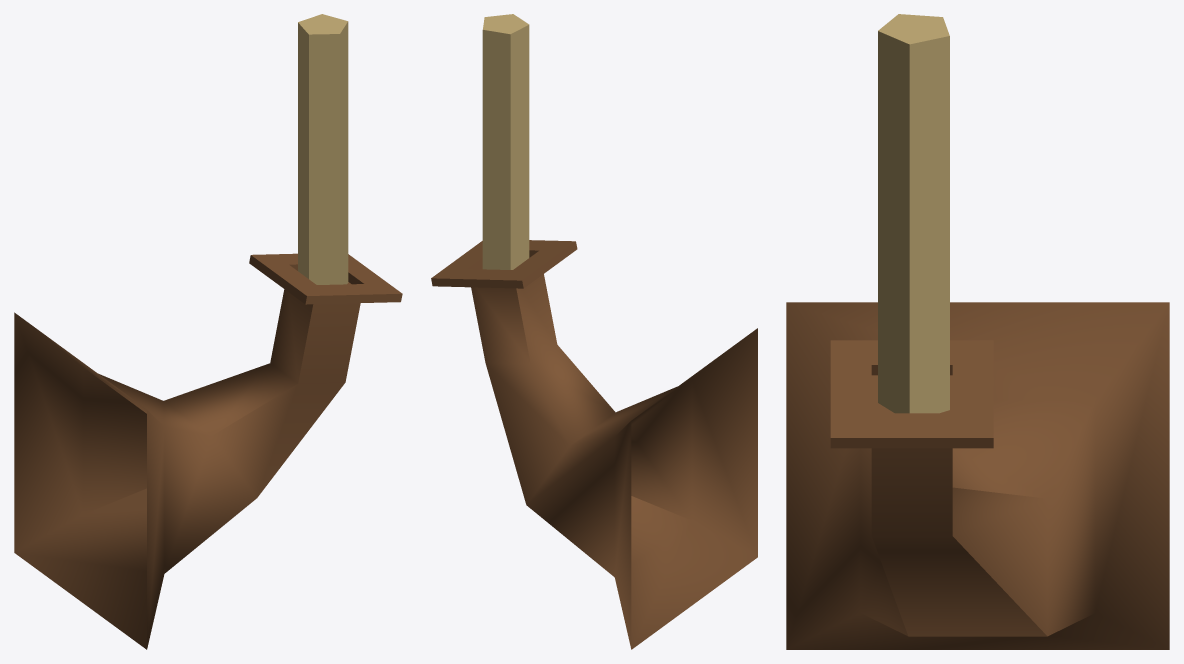
The model's file is candle_wall(1).fbx.
3 renders of one model, left to right at view 1: azimuth 30°, elevation 25°; view 2: azimuth 150°, elevation 25°; view 3: azimuth 270°, elevation 25°, orthographic. The views are drawn at different scales.
Visible parts, largest first — view 1: Plane, Cylinder_13; view 2: Plane, Cylinder_13; view 3: Plane, Cylinder_13.
Boxes of the visible parts, x1,y1,x2,y2 form: Plane: (14, 253, 402, 649); Cylinder_13: (298, 14, 348, 284); Plane: (431, 240, 757, 649); Cylinder_13: (482, 14, 529, 269); Plane: (786, 302, 1169, 649); Cylinder_13: (878, 14, 949, 413).
Size of the model in its own units: 11.79 by 22.37 by 10.
